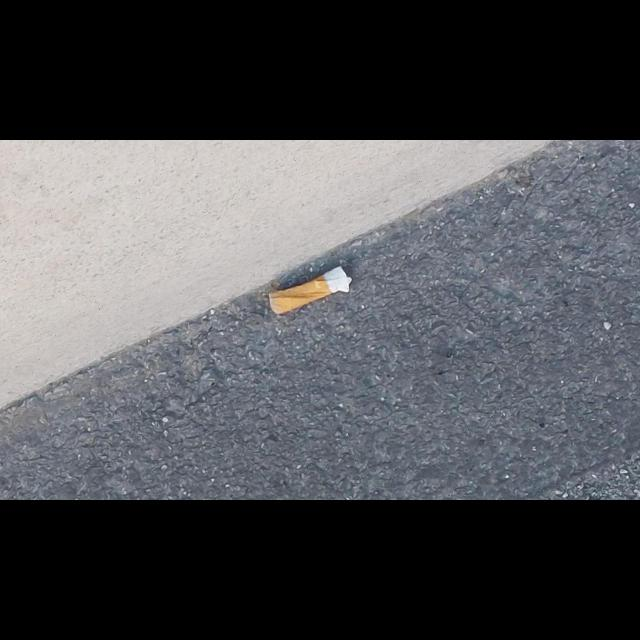cigarette: (268, 265, 353, 315)
